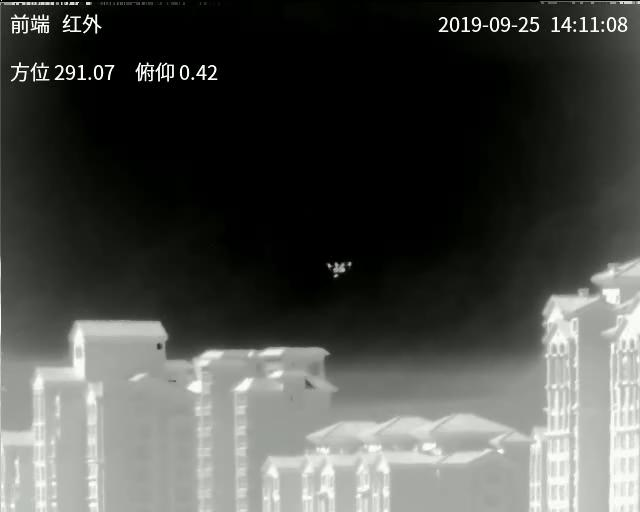uav: (326, 254, 353, 279)
